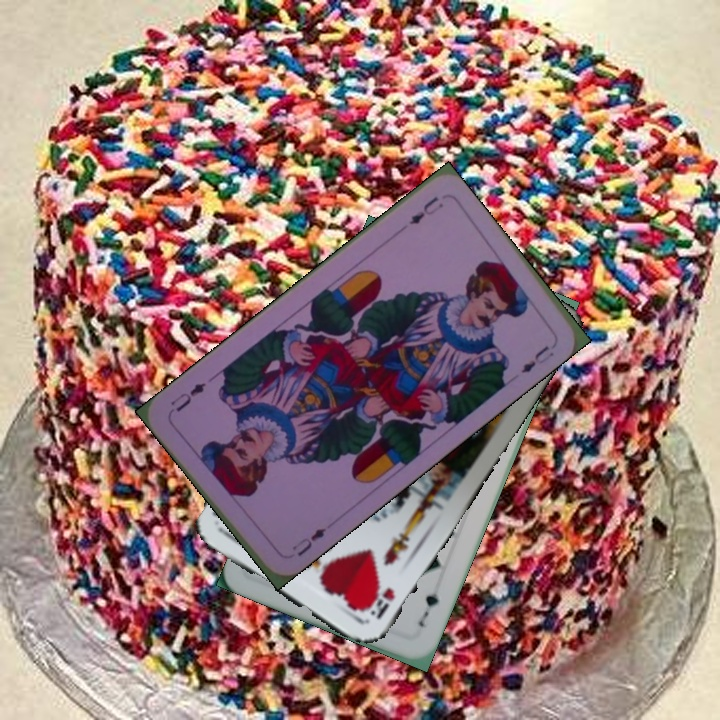EU: (405, 192, 446, 228), (288, 523, 328, 559)
G7: (414, 588, 441, 630)
HK: (359, 581, 398, 623)
